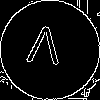V: (25, 25, 63, 74)
